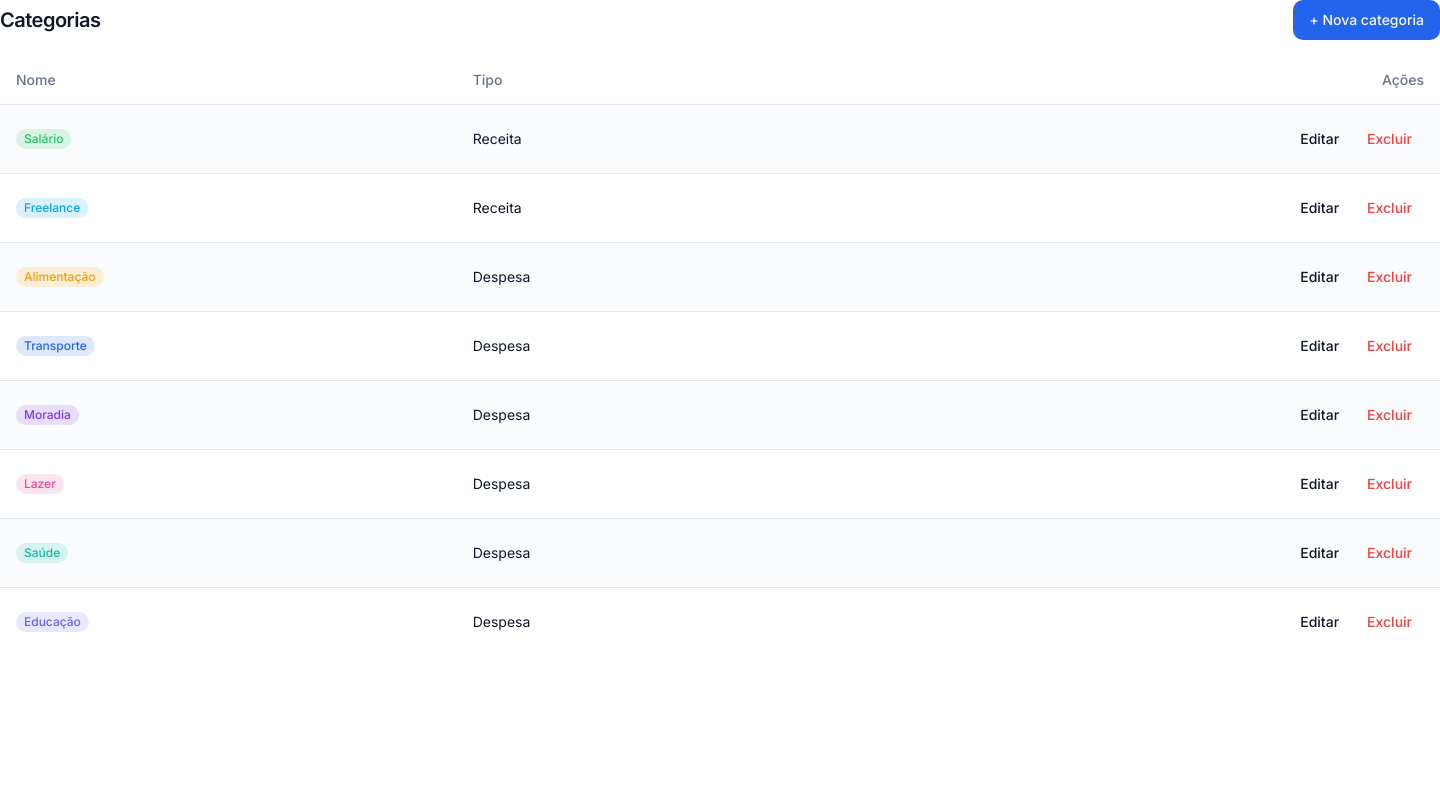
CategoriesPage (AC-004, AC-006, AC-008) › edita uma categoria existente
This screenshot has width=1440, height=810.
Click the button "Editar" in the row of "Lazer". click: (1320, 484)
box: x1=1288 y1=466 x2=1351 y2=502
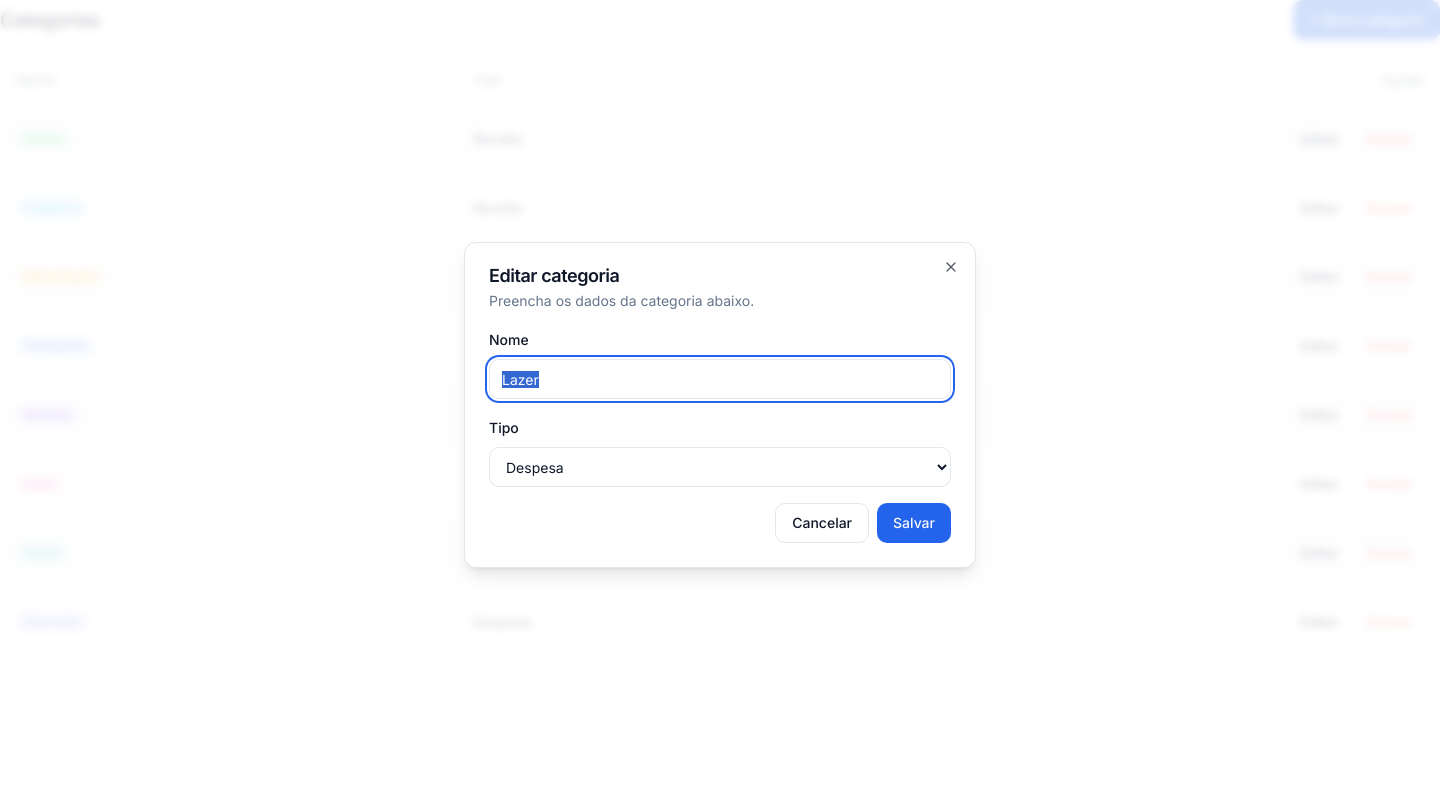
Check: the dialog "Editar categoria" is shown, box x1=464 y1=242 x2=976 y2=568
Replace the text in the field labelled "Nome" with "Lazer e hobbies". click: (720, 379)
box: x1=489 y1=359 x2=951 y2=399
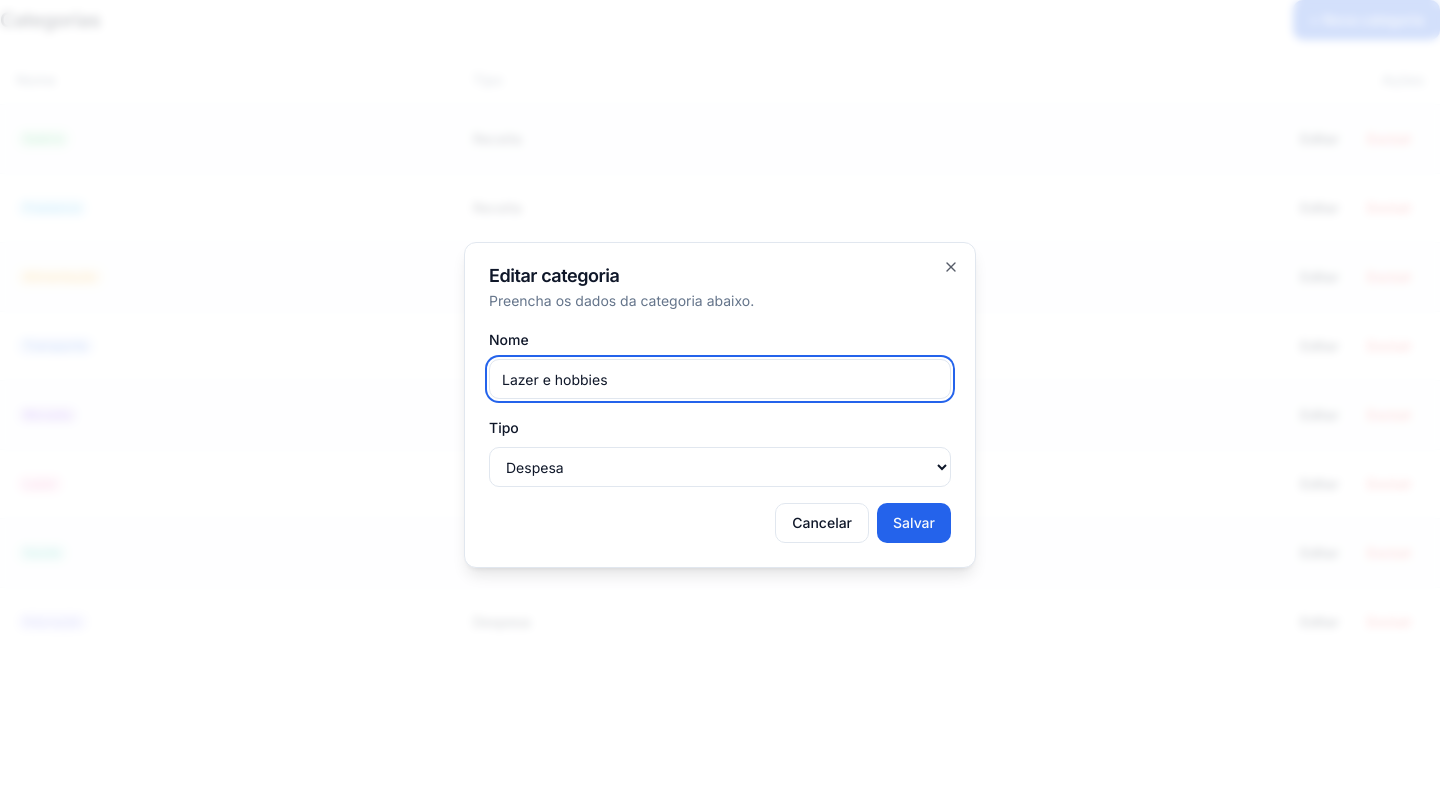
Click the button "Salvar". click: (914, 523)
box: x1=877 y1=503 x2=951 y2=543
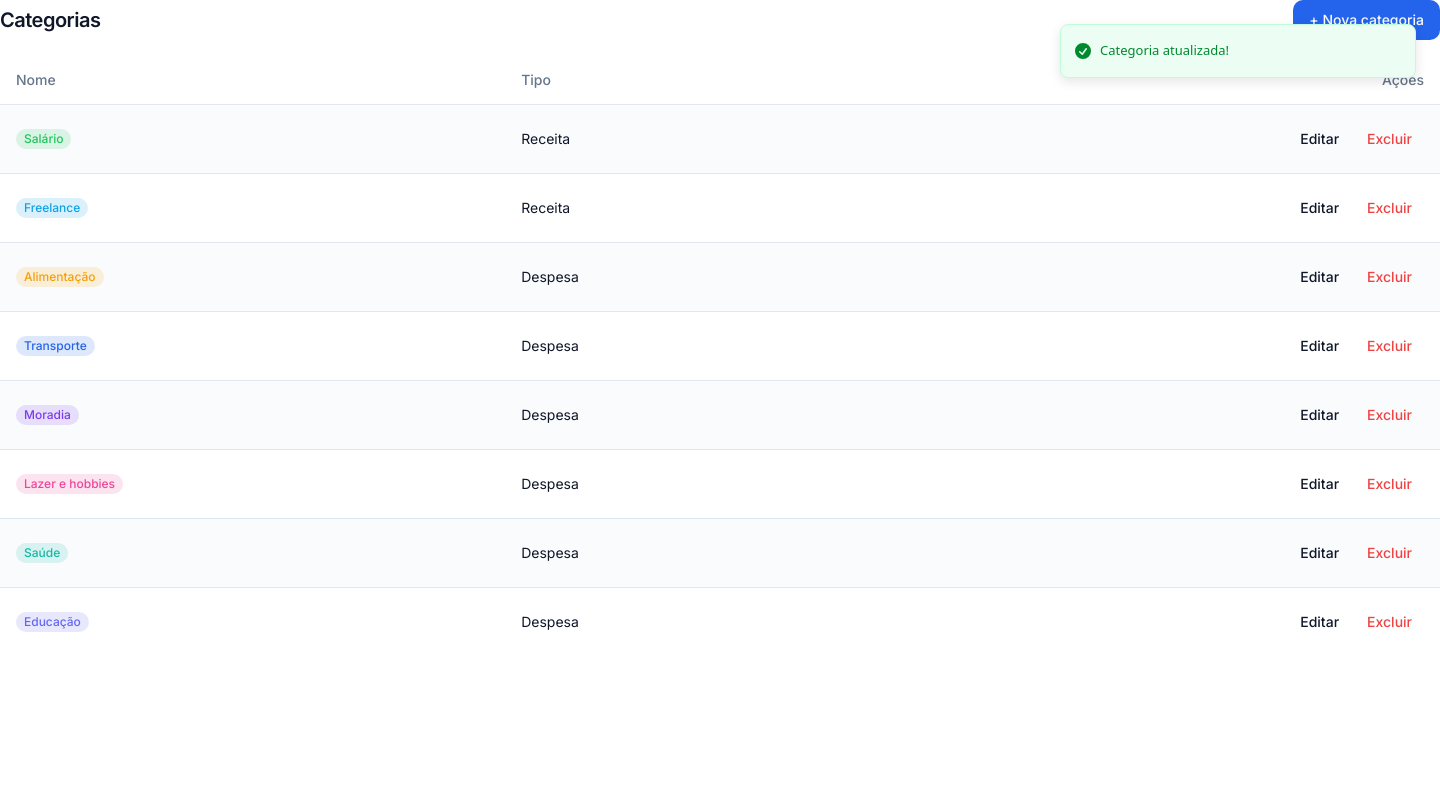
Check: the text "Categoria atualizada!" is shown, box x1=1100 y1=41 x2=1229 y2=60
Check: the text "Lazer e hobbies" is shown, box x1=16 y1=474 x2=123 y2=494
